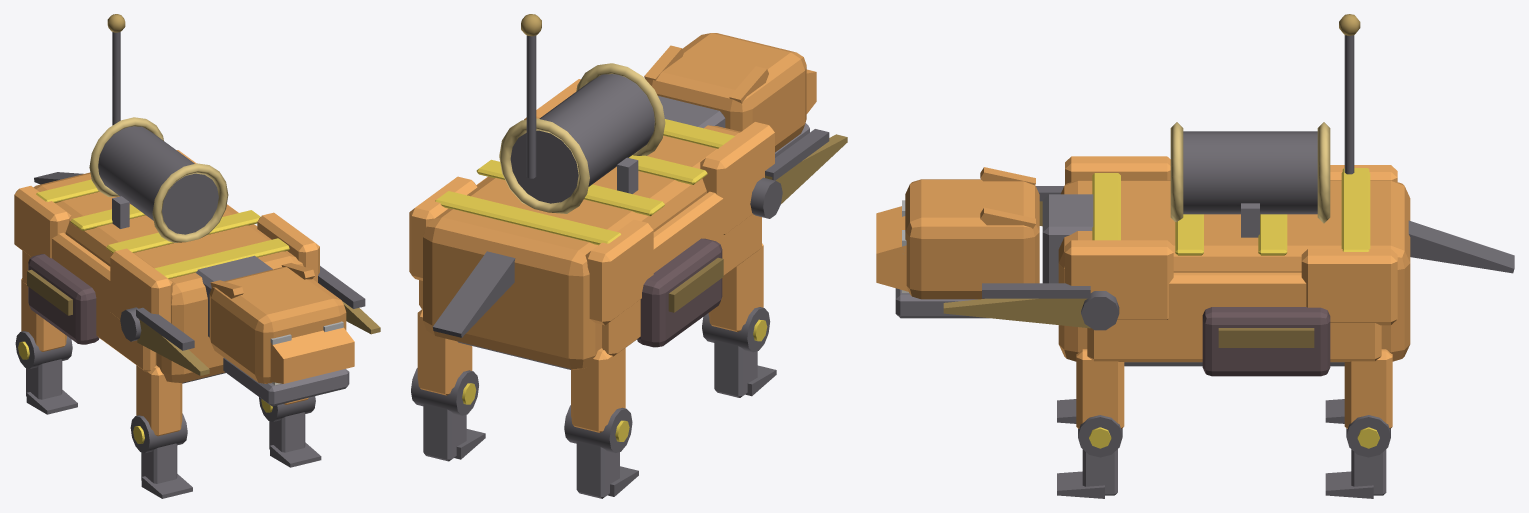
The model's file is courier.glb.
3 views of the same model, side by side, from view 1: azimuth 30°, elevation 25°; view 2: azimuth 150°, elevation 25°; view 3: azimuth 270°, elevation 25° (orthographic). The views are drawn at different scales.
Parts seen in each view (by area): view 1: courier, courier.001, gunmetal, courier*1.004, courier*1.007, rag.001, courier*1.005, courier*1.006, courier*1.009, gunmetal*1.005, brass.001, hazard.003 (+24 smaller); view 2: courier, courier.001, gunmetal, courier*1.004, courier*1.006, rag.001, courier*1.005, courier*1.011, gunmetal.002, hazard, brass, courier*1.010 (+22 smaller); view 3: courier, courier.001, courier*1.2, gunmetal, rag, courier*1.001, courier*1.003, glow*0.002, courier*1.008, courier*1.010, gunmetal.002, gunmetal*1.004 (+21 smaller).
Boxes of the visible parts, x1,y1,x2,y2 form: courier: (33, 172, 303, 382); courier.001: (209, 267, 346, 383); gunmetal: (98, 126, 218, 234); courier*1.004: (22, 232, 156, 372); courier*1.007: (269, 327, 354, 383); rag.001: (28, 254, 99, 344); courier*1.005: (110, 248, 172, 322); courier*1.006: (14, 186, 71, 258); courier*1.009: (136, 365, 182, 436); gunmetal*1.005: (223, 358, 349, 406); brass.001: (152, 163, 228, 242); hazard.003: (154, 238, 289, 278); courier: (423, 125, 740, 369); courier.001: (646, 33, 806, 152); gunmetal: (510, 74, 654, 203); courier*1.004: (602, 191, 761, 356); courier*1.006: (585, 219, 653, 325); rag.001: (637, 238, 722, 347); courier*1.005: (700, 122, 774, 234); courier*1.011: (571, 348, 625, 432); gunmetal.002: (433, 251, 515, 337); hazard: (435, 191, 621, 245); brass: (499, 118, 589, 213); courier*1.010: (417, 309, 472, 395); courier: (1058, 180, 1410, 362); courier.001: (905, 179, 1039, 299); courier*1.2: (1087, 272, 1381, 361); gunmetal: (1183, 131, 1317, 214); rag: (1202, 307, 1330, 376); courier*1.001: (1065, 240, 1173, 319); courier*1.003: (1301, 249, 1397, 325); glow*0.002: (943, 298, 1090, 328); courier*1.008: (1076, 349, 1124, 428); courier*1.010: (1344, 349, 1392, 428); gunmetal.002: (1408, 220, 1514, 273); gunmetal*1.004: (1042, 194, 1093, 283).
Bounding box in the file's own units: 0.88 × 1.52 × 2.
